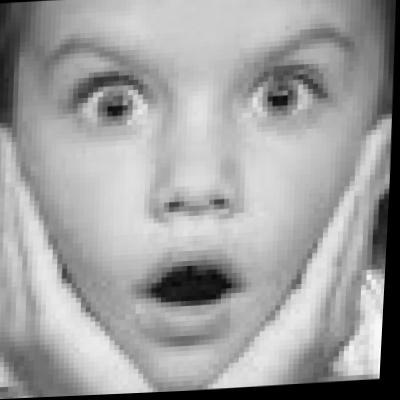surprise: (19, 0, 385, 395)
